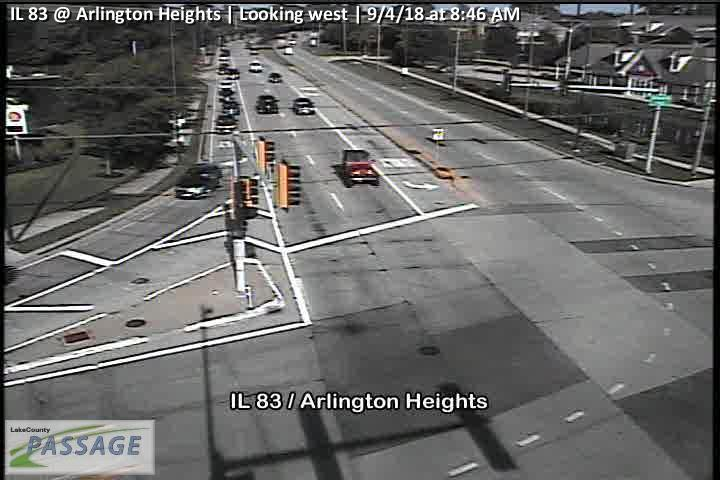SUV: (341, 148, 380, 188)
Sedan: (174, 165, 223, 199), (255, 95, 283, 115), (216, 113, 238, 134), (293, 98, 315, 115), (221, 99, 243, 114)
